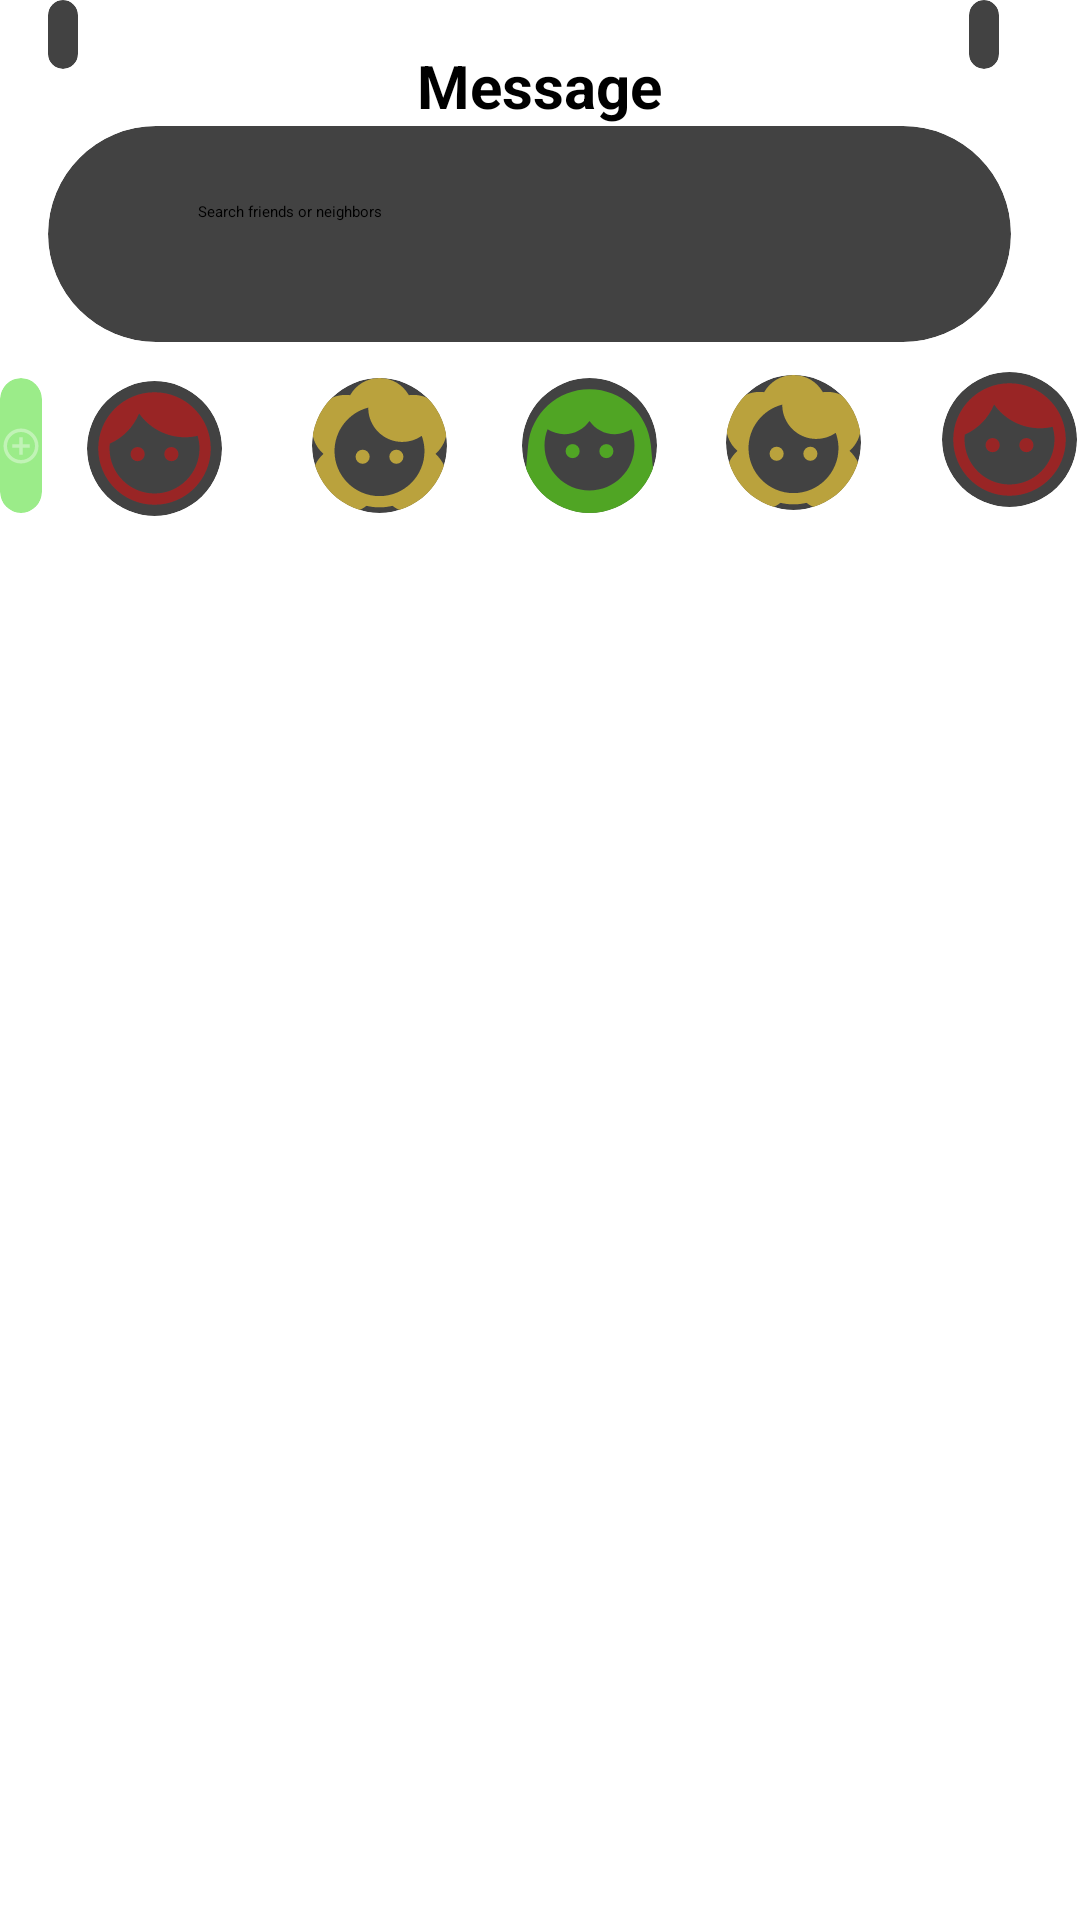

Icon click points for this 1080 x 1920 phone screenshot, format (x=x, y=y):
face: (x=1009, y=439), (x=793, y=442), (x=379, y=445), (x=589, y=445), (x=154, y=448)
